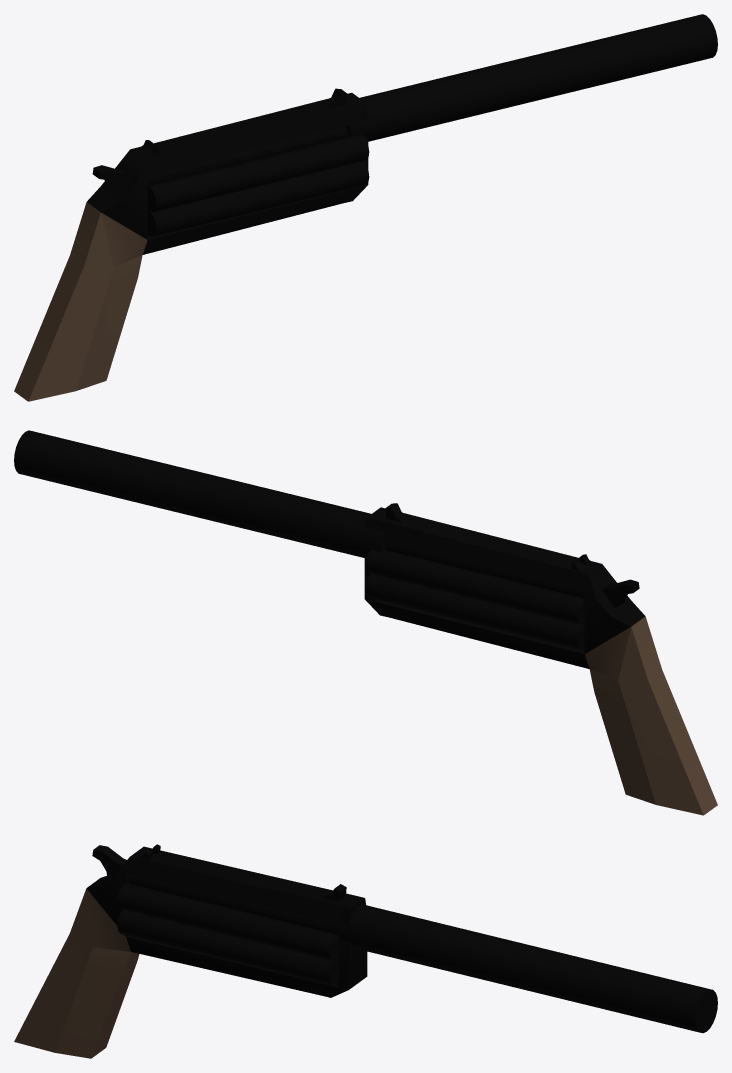
Rendered from gun.fbx.
3 views of the same model, one above another, from view 1: azimuth 30°, elevation 25°; view 2: azimuth 150°, elevation 25°; view 3: azimuth 330°, elevation 25° (orthographic).
Parts seen in each view (by area): view 1: pCube1, pCylinder1, sweep1, pCube2; view 2: pCube1, pCylinder1, sweep1, pCube2; view 3: pCube1, pCylinder1, sweep1, pCube2.
Part boxes in pixels (<box>): pCube1: <box>14,92,368,401</box>; pCylinder1: <box>347,14,717,141</box>; sweep1: <box>147,126,369,236</box>; pCube2: <box>92,165,129,193</box>; pCube1: <box>364,507,717,815</box>; pCylinder1: <box>14,430,387,557</box>; sweep1: <box>365,541,584,649</box>; pCube2: <box>602,579,639,607</box>; pCube1: <box>14,846,367,1058</box>; pCylinder1: <box>329,904,717,1033</box>; sweep1: <box>117,874,339,985</box>; pCube2: <box>92,845,126,878</box>.
Bounding box in the file's own units: 29.32 × 9.31 × 2.73.
